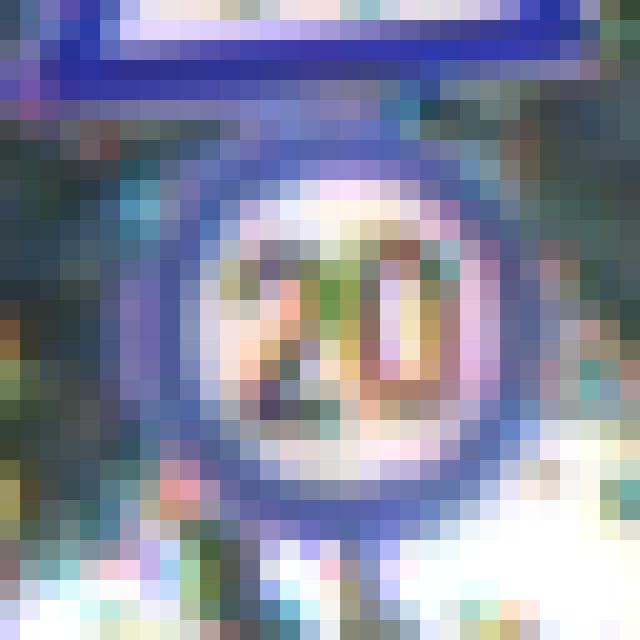SPEED LIMIT 20: (144, 153, 546, 523)
